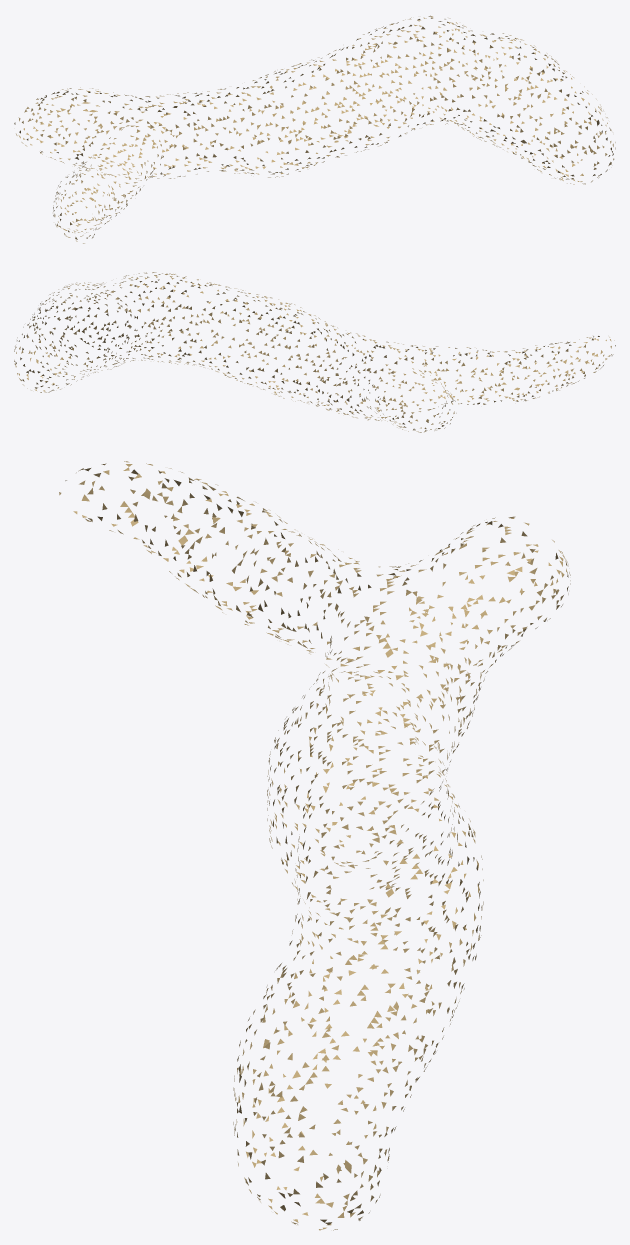
Rendered from morph_007.glb.
3 renders of one model, top to bottom at view 1: azimuth 30°, elevation 25°; view 2: azimuth 150°, elevation 25°; view 3: azimuth 270°, elevation 25°, orthographic. The views are drawn at different scales.
Bounding box in the file's own units: 117 × 33.05 × 48.28.
